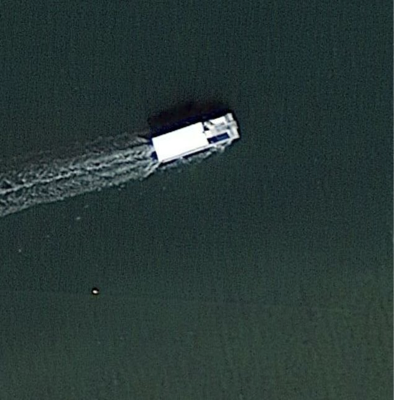boat: (147, 112, 241, 172)
